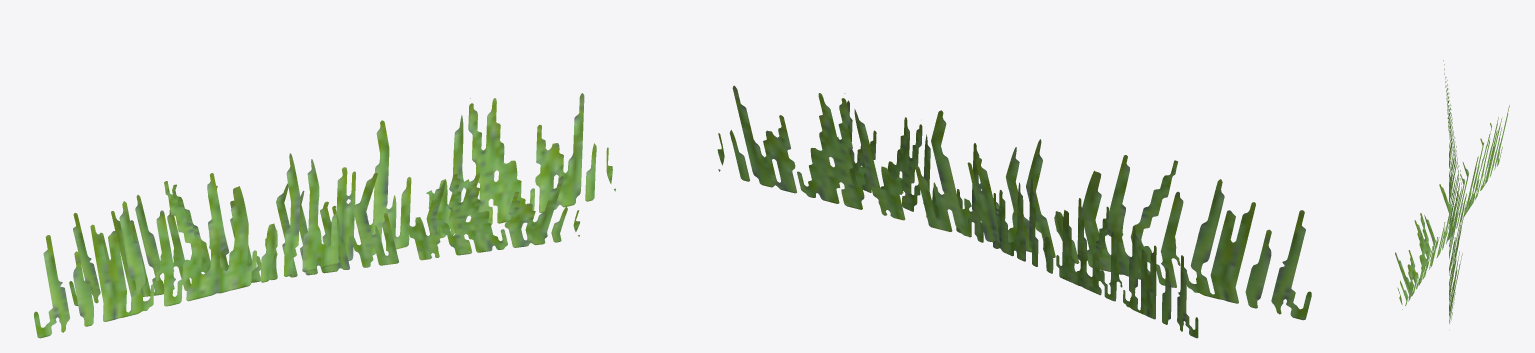
The model's file is psx_grass.glb.
3 views of the same model, side by side, from view 1: azimuth 30°, elevation 25°; view 2: azimuth 150°, elevation 25°; view 3: azimuth 270°, elevation 25° (orthographic). The views are drawn at different scales.
Visible parts, largest first — view 1: _MeshInstance3D_3; view 2: _MeshInstance3D_3; view 3: _MeshInstance3D_3.
Boxes of the visible parts, x1,y1,x2,y2 form: _MeshInstance3D_3: (34, 93, 615, 338); _MeshInstance3D_3: (717, 85, 1311, 338); _MeshInstance3D_3: (1395, 60, 1509, 323).
Size of the model in its own units: 2.39 by 0.6151 by 0.6618.
Materials: 1 (1 with a texture image).
